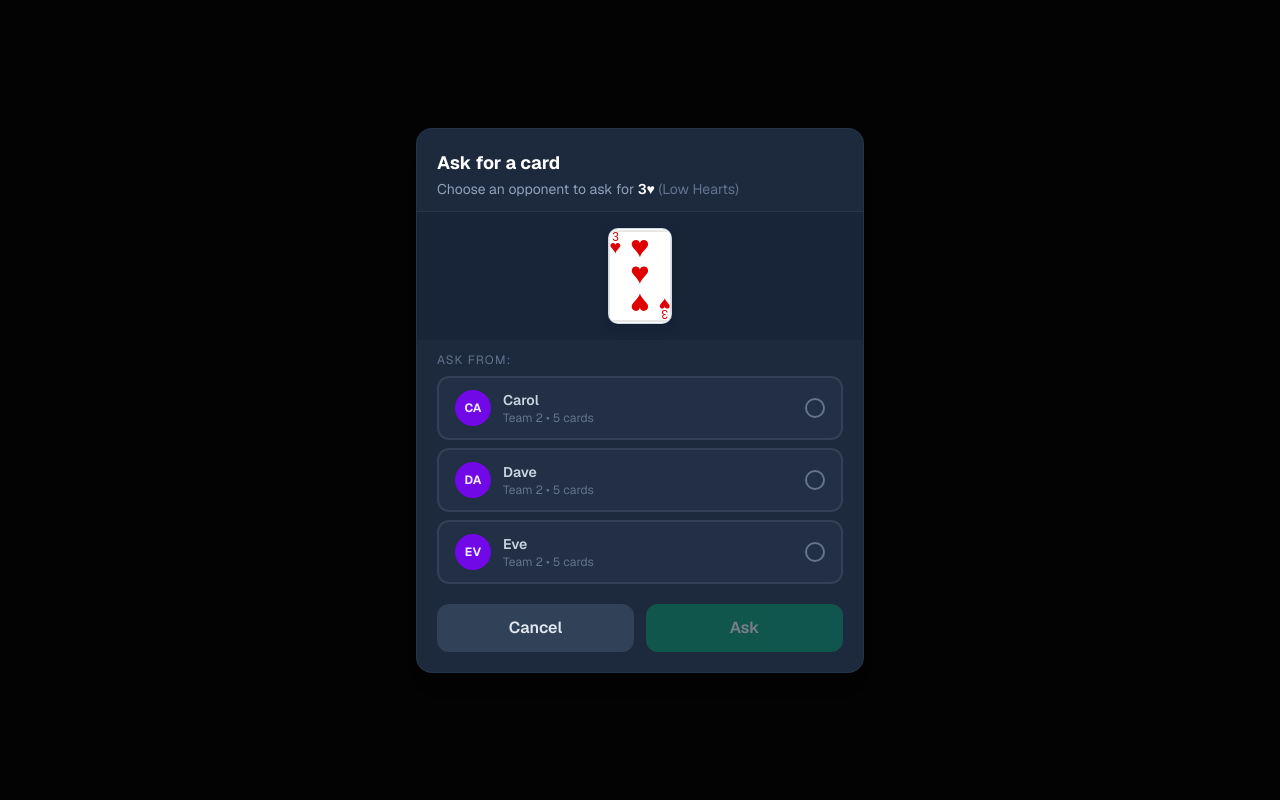
it: AskCardModal — confirm/cancel interaction › Confirm is enabled after selecting a target
Click the button "CA Carol Team 2 • 5 cards" at (473, 408), box [437,376,843,440]
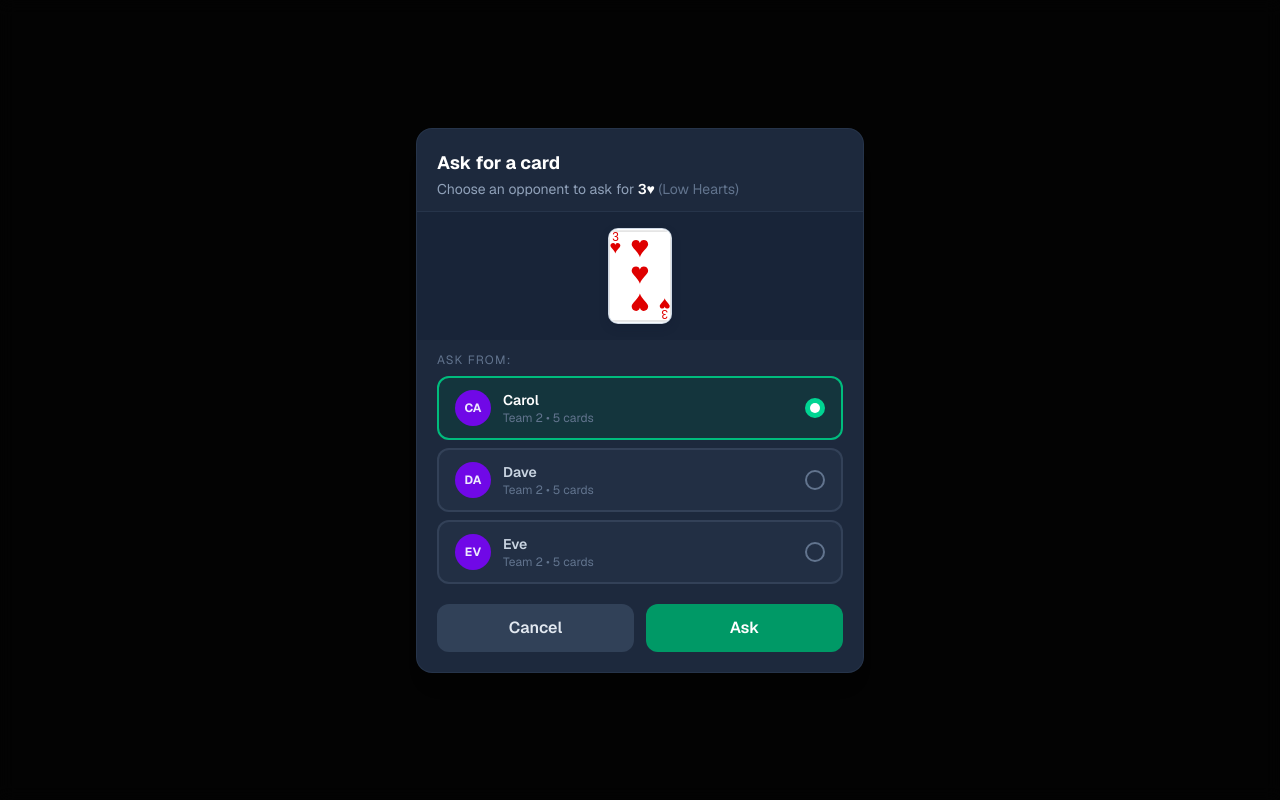
Check: the button "Ask" is enabled, box [646,604,843,652]
